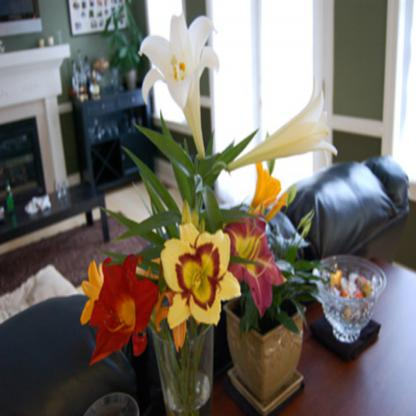vase: (223, 300, 304, 413), (152, 325, 214, 414)
